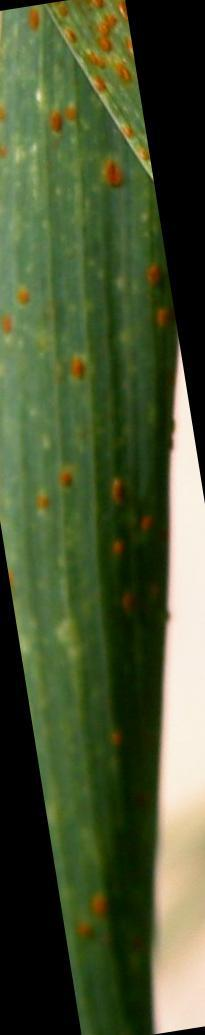Wheat: (17, 20, 133, 281), (10, 310, 169, 496), (82, 514, 142, 983)
